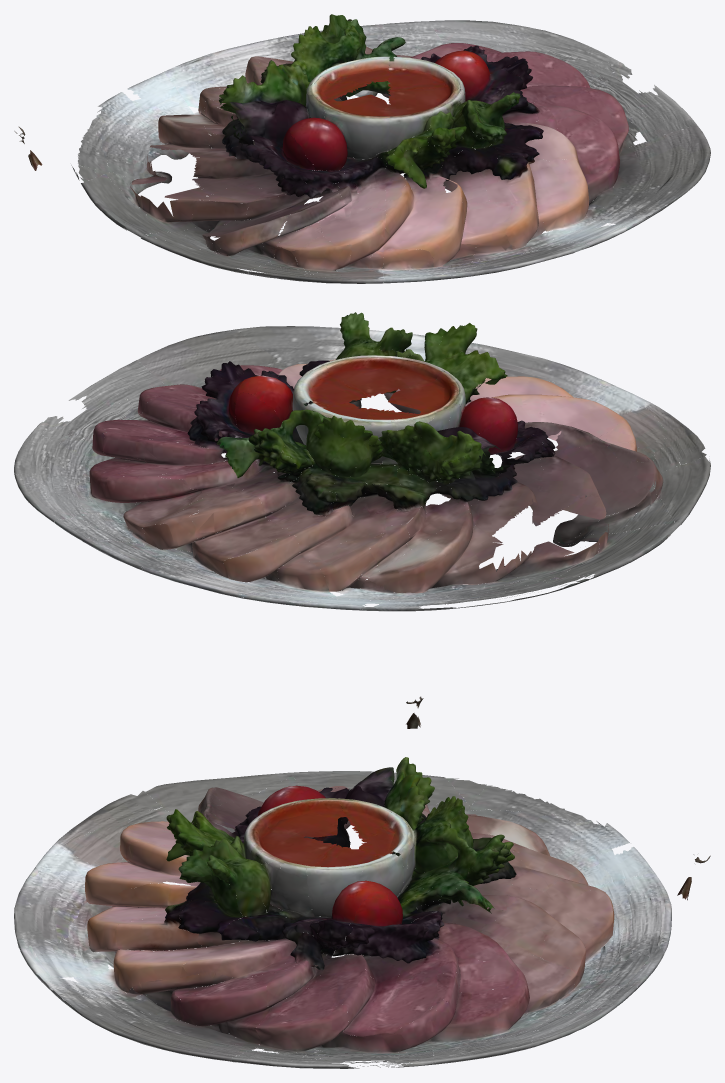
Rendered from kolbasa.glb.
The picture shows the model from 3 angles, top to bottom: view 1: azimuth 30°, elevation 25°; view 2: azimuth 150°, elevation 25°; view 3: azimuth 270°, elevation 25°; orthographic projection. The views are drawn at different scales.
Visible parts, largest first — view 1: tripo_node_a0556cdb-5c25-407d-a07b-f588c685d673; view 2: tripo_node_a0556cdb-5c25-407d-a07b-f588c685d673; view 3: tripo_node_a0556cdb-5c25-407d-a07b-f588c685d673.
Part boxes in pixels (x1=…): tripo_node_a0556cdb-5c25-407d-a07b-f588c685d673: x1=14, y1=14, x2=710, y2=283; tripo_node_a0556cdb-5c25-407d-a07b-f588c685d673: x1=14, y1=312, x2=710, y2=728; tripo_node_a0556cdb-5c25-407d-a07b-f588c685d673: x1=14, y1=757, x2=710, y2=1068.
Bounding box in the file's own units: 0.9289 × 0.2835 × 0.9237.
Materials: 1 (1 with a texture image).
